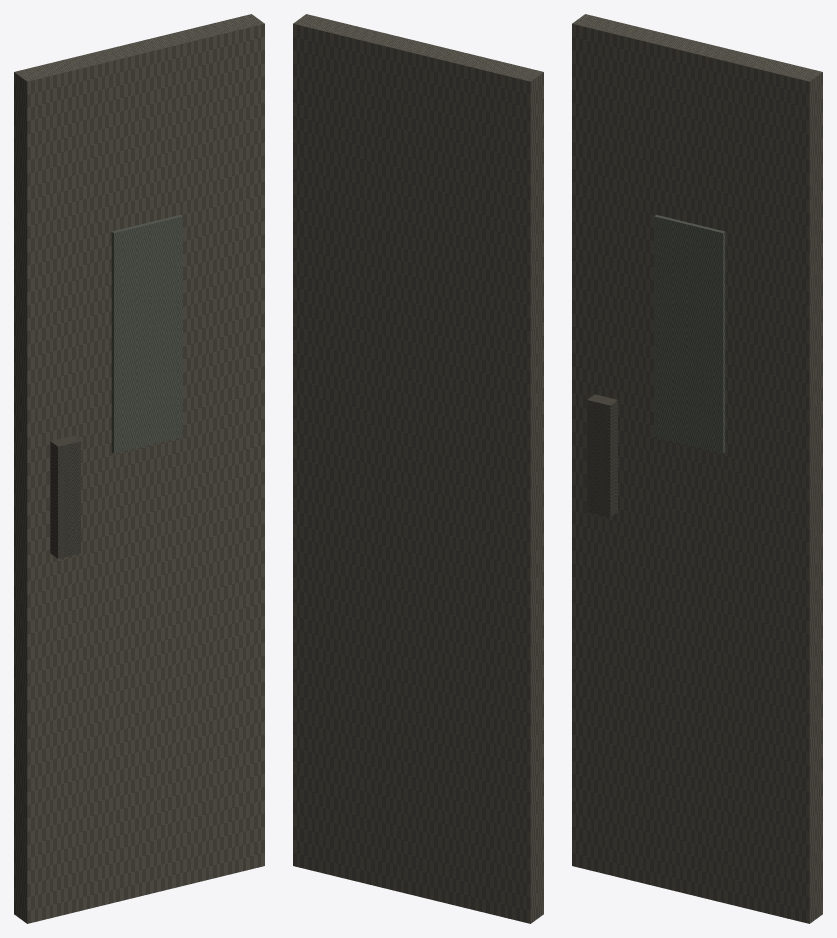
The model's file is prop_elev_door_R.glb.
3 renders of one model, left to right at view 1: azimuth 30°, elevation 25°; view 2: azimuth 150°, elevation 25°; view 3: azimuth 330°, elevation 25°, orthographic.
Visible parts, largest first — view 1: prop_elev_door_R; view 2: prop_elev_door_R; view 3: prop_elev_door_R.
Part boxes in pixels (<box>): prop_elev_door_R: <box>14,14,264,923</box>; prop_elev_door_R: <box>293,14,543,923</box>; prop_elev_door_R: <box>572,14,822,923</box>.
Size of the model in its own units: 0.62 by 2.1 by 0.095.
Materials: 1 (1 with a texture image).
